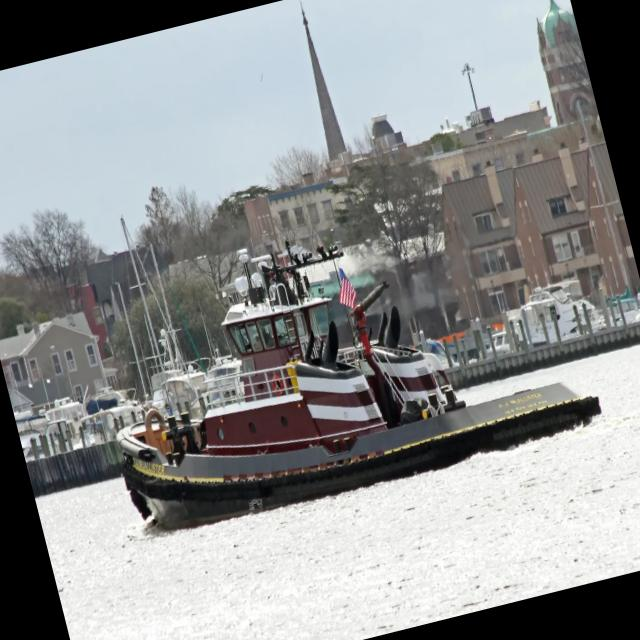Tug: (119, 253, 599, 527)
